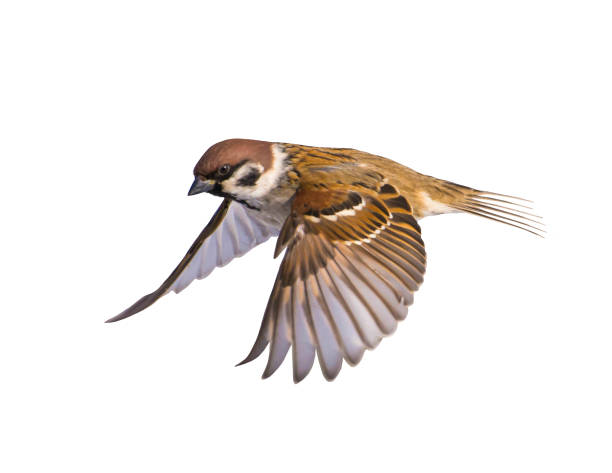Bird: (101, 132, 547, 390)
